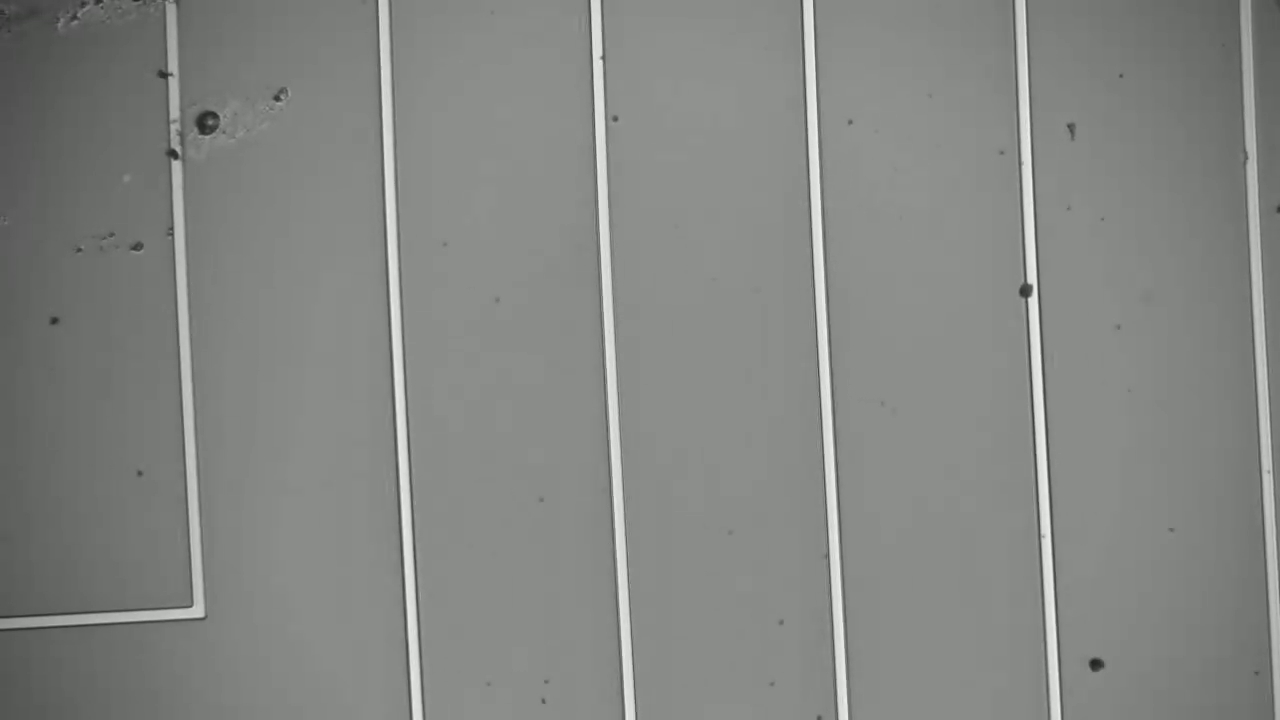stains_enbedded: (155, 140, 192, 171), (1015, 275, 1046, 304), (152, 64, 187, 88)
